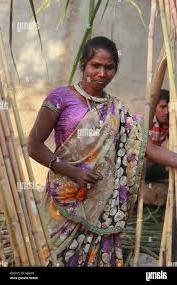Human: (31, 18, 143, 285), (147, 87, 177, 162)
